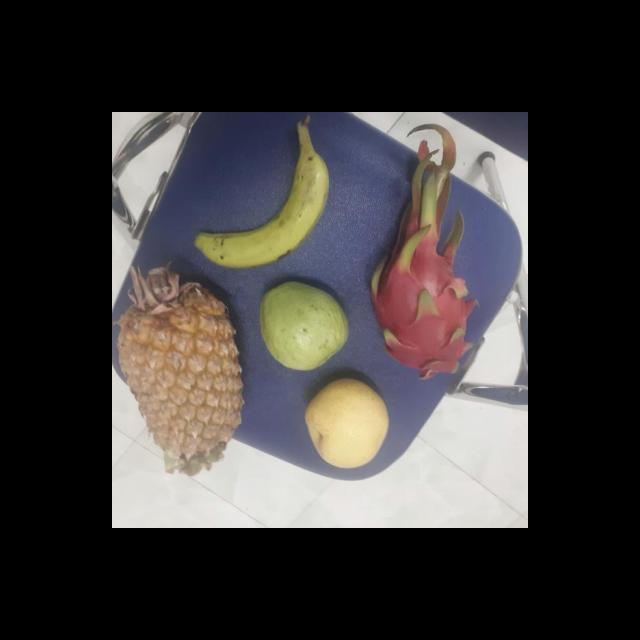banana: (200, 134, 336, 269)
guava: (260, 284, 353, 369)
pear: (304, 377, 394, 466)
pineapple: (118, 268, 248, 476)
pitaya: (370, 236, 477, 374)
